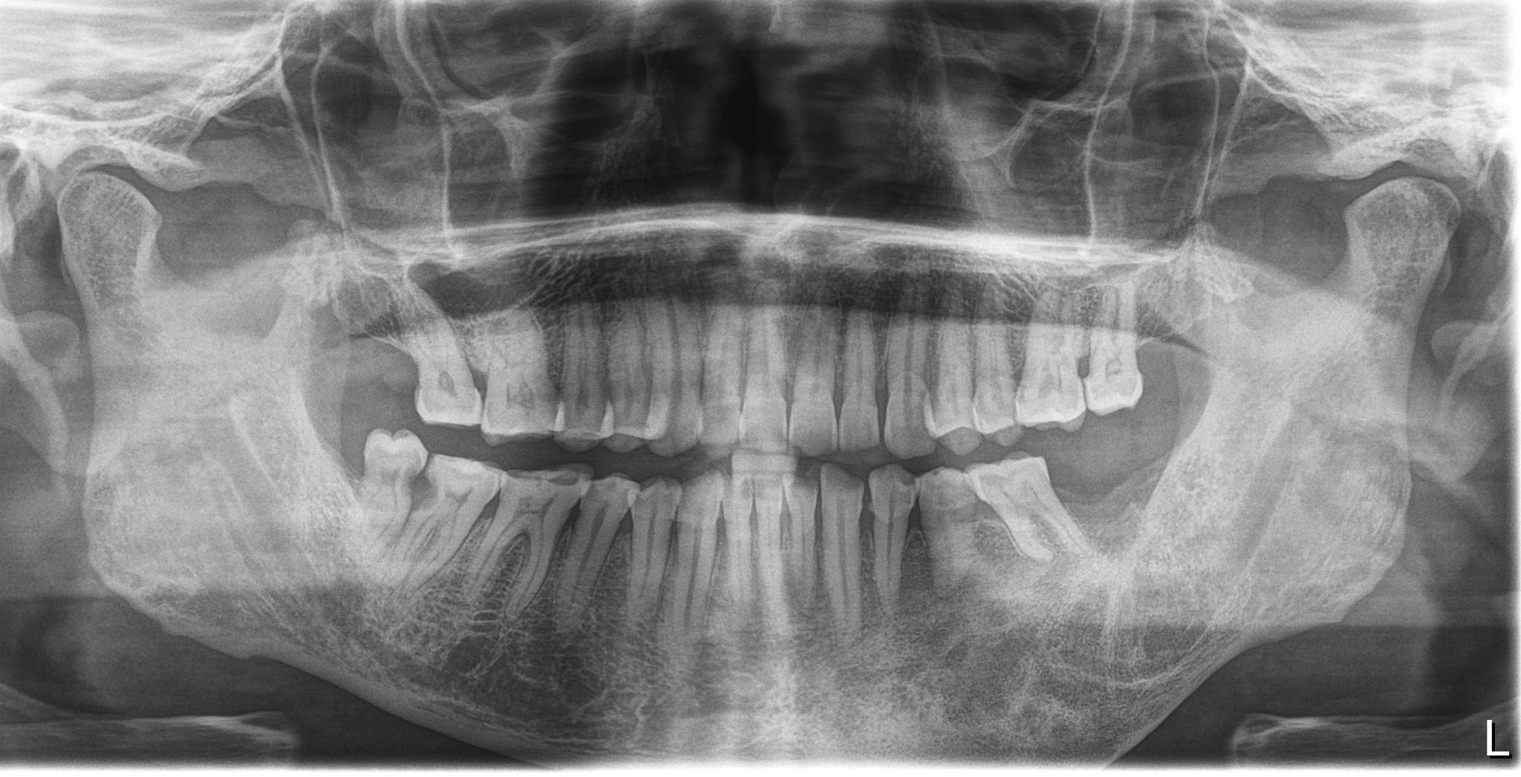Dental Caries: (397, 469, 445, 518), (499, 378, 541, 410), (1066, 347, 1097, 386), (434, 365, 460, 402)
Missing Tooth: (1138, 299, 1204, 411), (360, 314, 414, 423), (1125, 462, 1174, 567), (316, 314, 362, 420), (1069, 462, 1115, 567)
Periodontal Pocket: (958, 503, 1021, 580)
